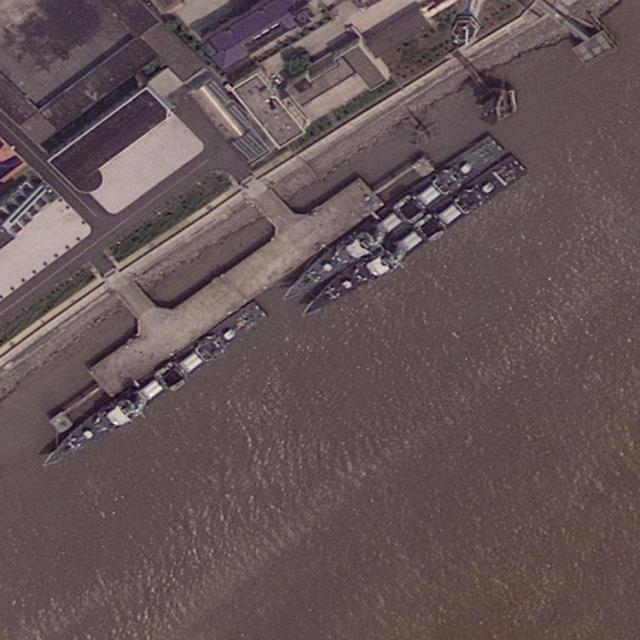Frigate: (273, 130, 509, 308), (36, 297, 270, 475), (296, 152, 529, 326)
